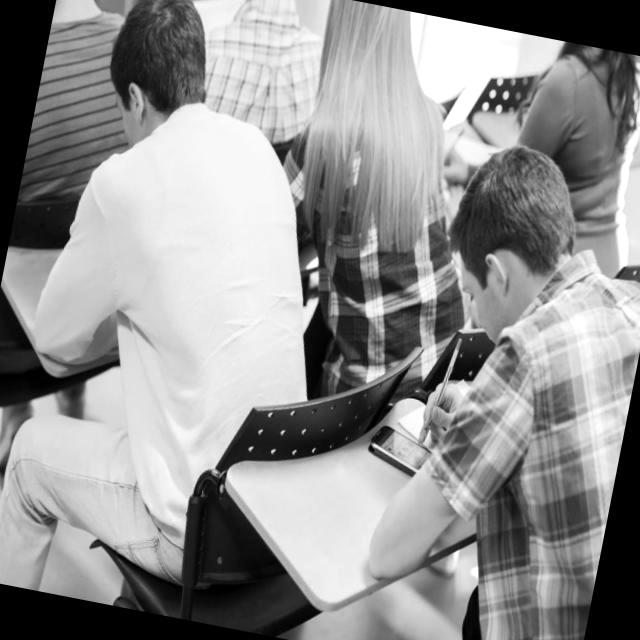phone: (404, 316, 498, 416), (364, 422, 436, 478)
